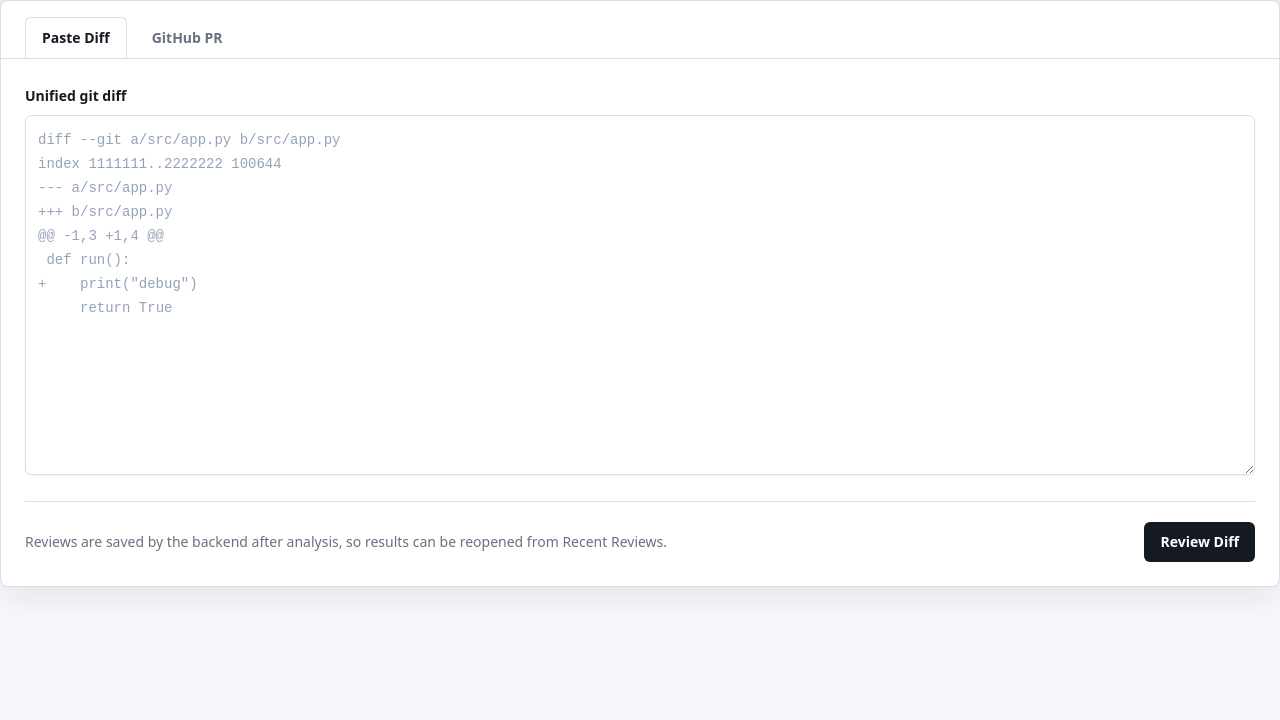
ReviewForm › renders a safe API error message
In the text box labelled "Unified git diff": (640, 295) x1=25 y1=115 x2=1255 y2=475, type "diff --git a/src/app.py b/src/app.py"
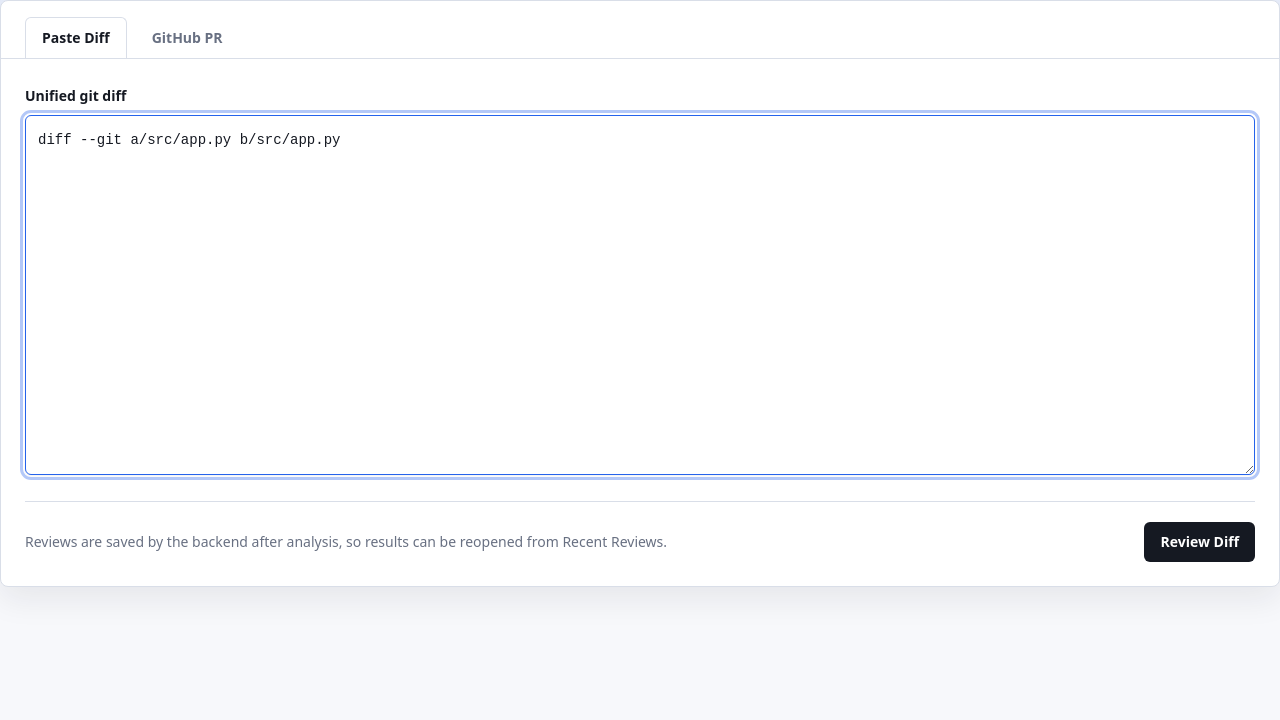
Click the button "Review Diff": (1200, 542) x1=1144 y1=522 x2=1255 y2=562
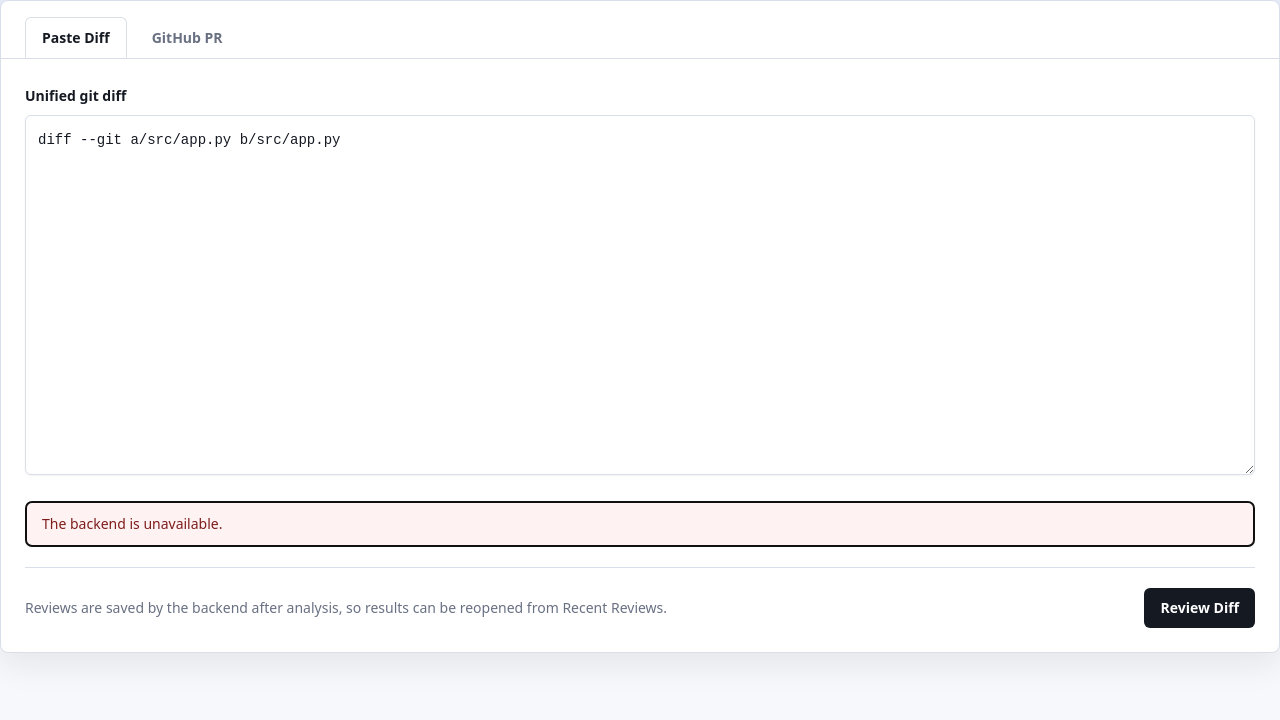
Result: the message reads "The backend is unavailable." at x1=42 y1=514 x2=222 y2=533
